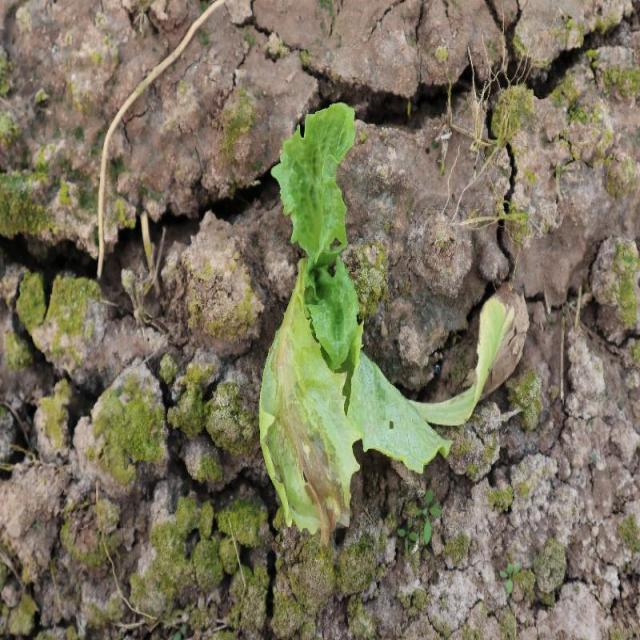crop: (270, 102, 390, 367)
